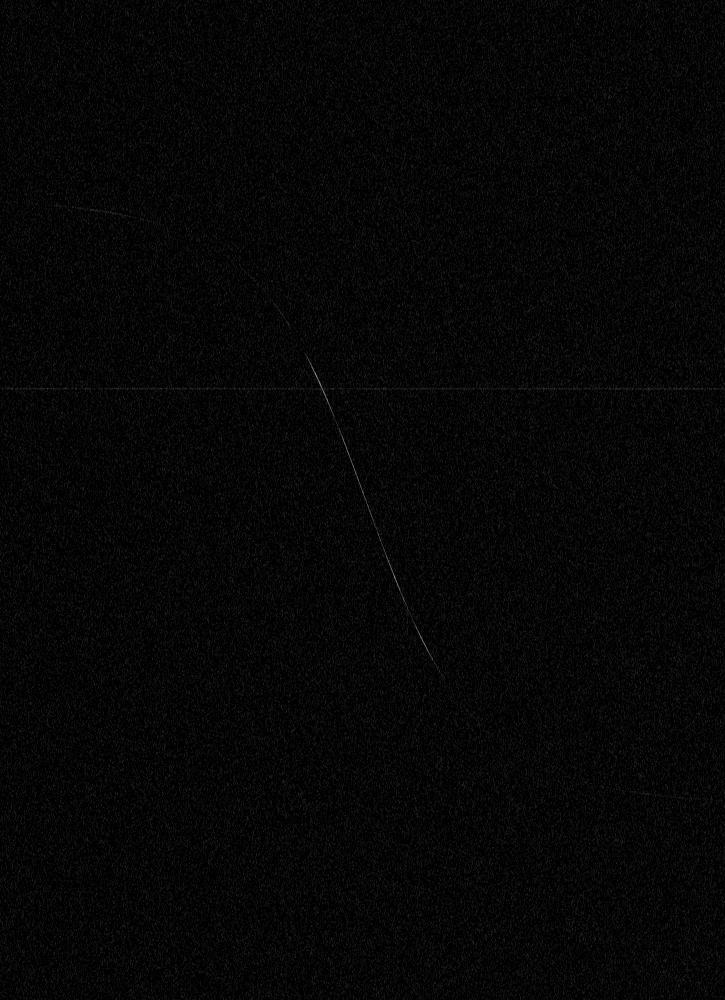signal: (0, 0, 724, 999)
